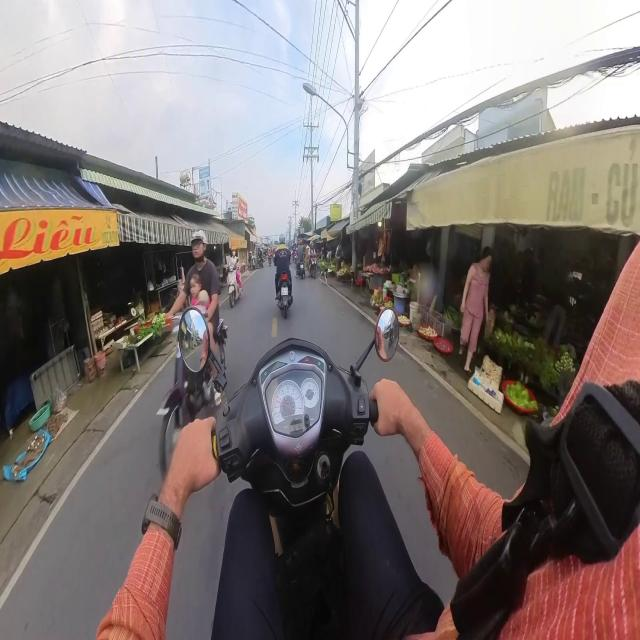motorcycle: (212, 310, 399, 638), (157, 308, 227, 474), (277, 273, 292, 318), (227, 266, 242, 308), (296, 258, 305, 279), (309, 256, 317, 278), (268, 255, 271, 266)
